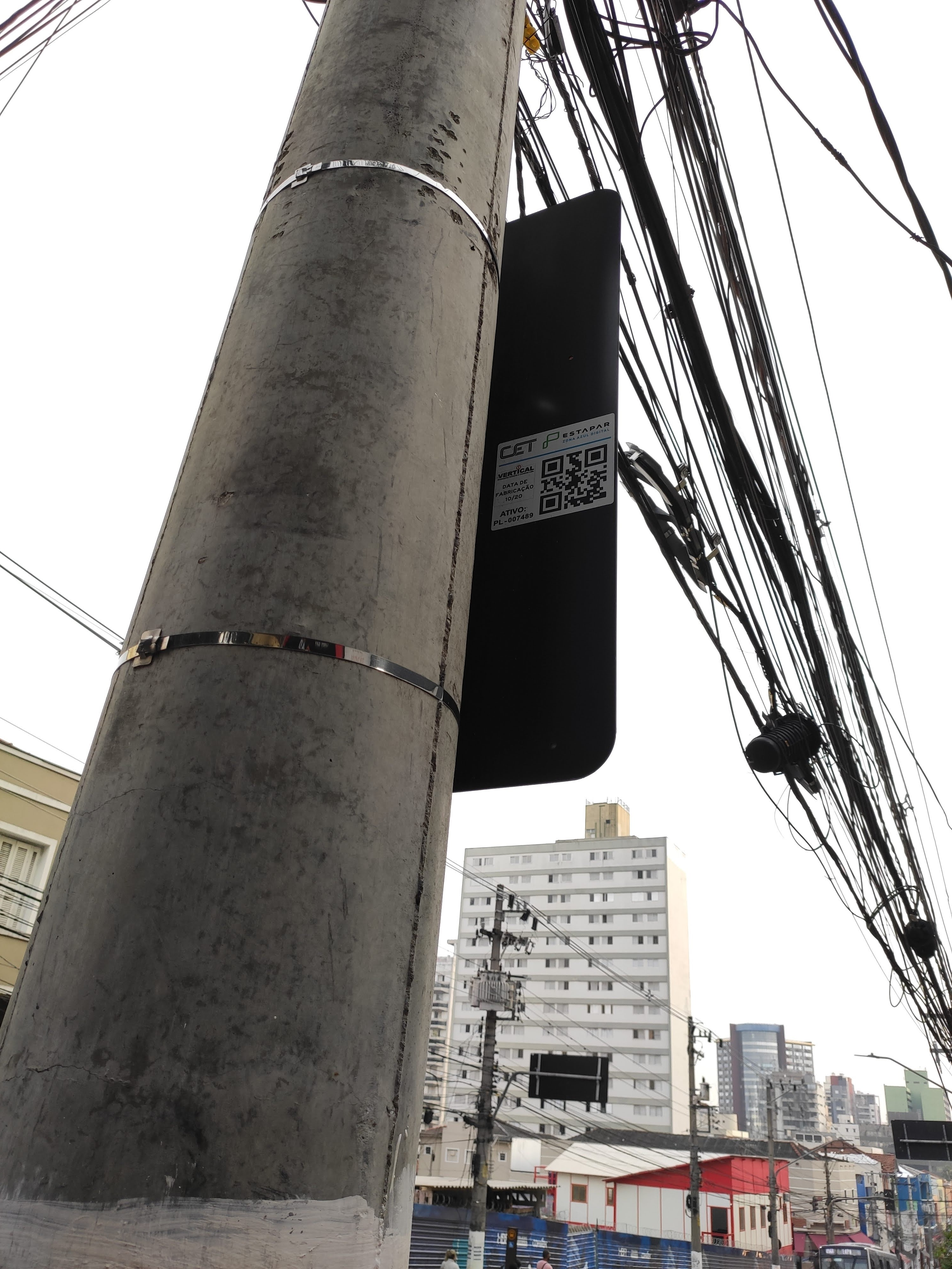QR-CODE: (539, 444, 607, 515)
